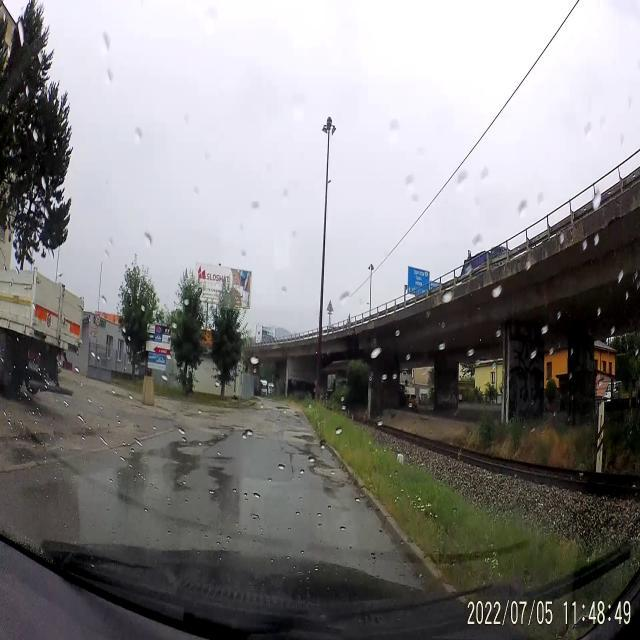Pothole: (308, 458, 348, 489), (206, 450, 234, 466), (288, 430, 319, 444), (208, 420, 243, 432), (265, 416, 284, 426)
